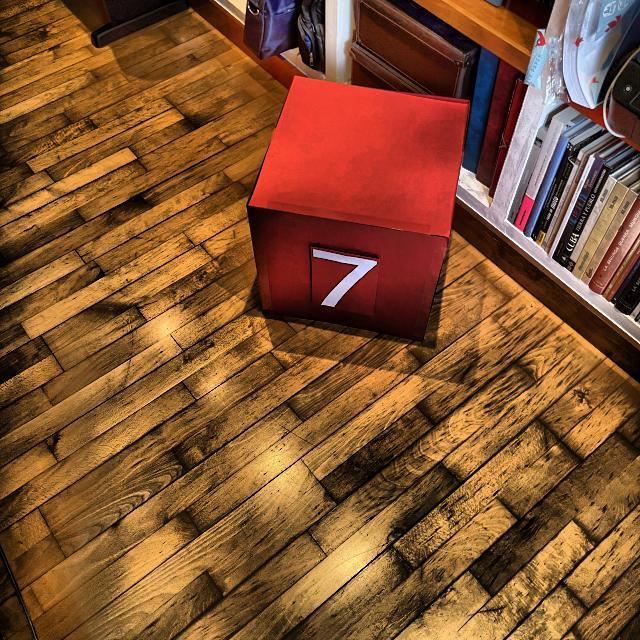red box: (250, 73, 469, 345)
seven: (313, 247, 379, 310)
